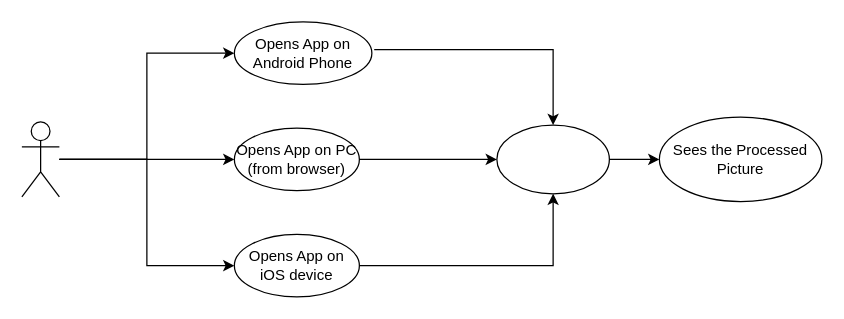
The diagram is 844 pixels wide and 319 high, and some of its shapes have lost their labels. Each missing label, with the centre of its shape:
"Uploads Picture of Crack" goes at (552,159).
"User" goes at (40,159).
